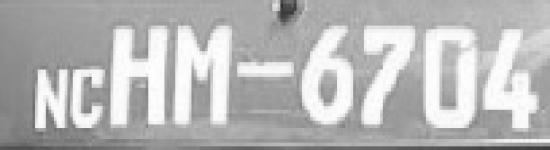-: (238, 50, 295, 88)
0: (424, 16, 481, 133)
4: (484, 24, 544, 130)
6: (298, 19, 358, 132)
7: (358, 22, 418, 136)
C: (71, 64, 107, 131)
H: (111, 15, 169, 132)
M: (174, 19, 234, 138)
N: (29, 60, 71, 134)
